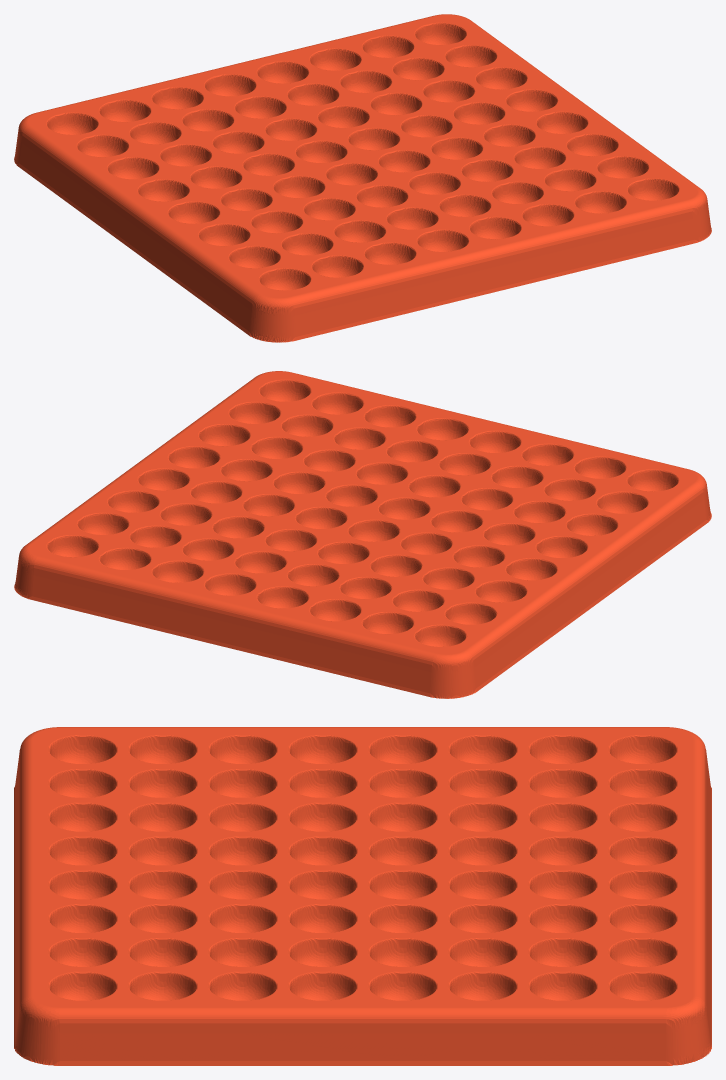
The model's file is mold.glb.
3 renders of one model, top to bottom at view 1: azimuth 30°, elevation 25°; view 2: azimuth 150°, elevation 25°; view 3: azimuth 270°, elevation 25°, orthographic. The views are drawn at different scales.
Visible parts, largest first — view 1: geometry_0; view 2: geometry_0; view 3: geometry_0.
Part boxes in pixels (<box>): geometry_0: <box>14,14,711,342</box>; geometry_0: <box>14,371,711,698</box>; geometry_0: <box>14,727,711,1065</box>.
Size of the model in its own units: 0.1355 by 0.0108 by 0.1355.
